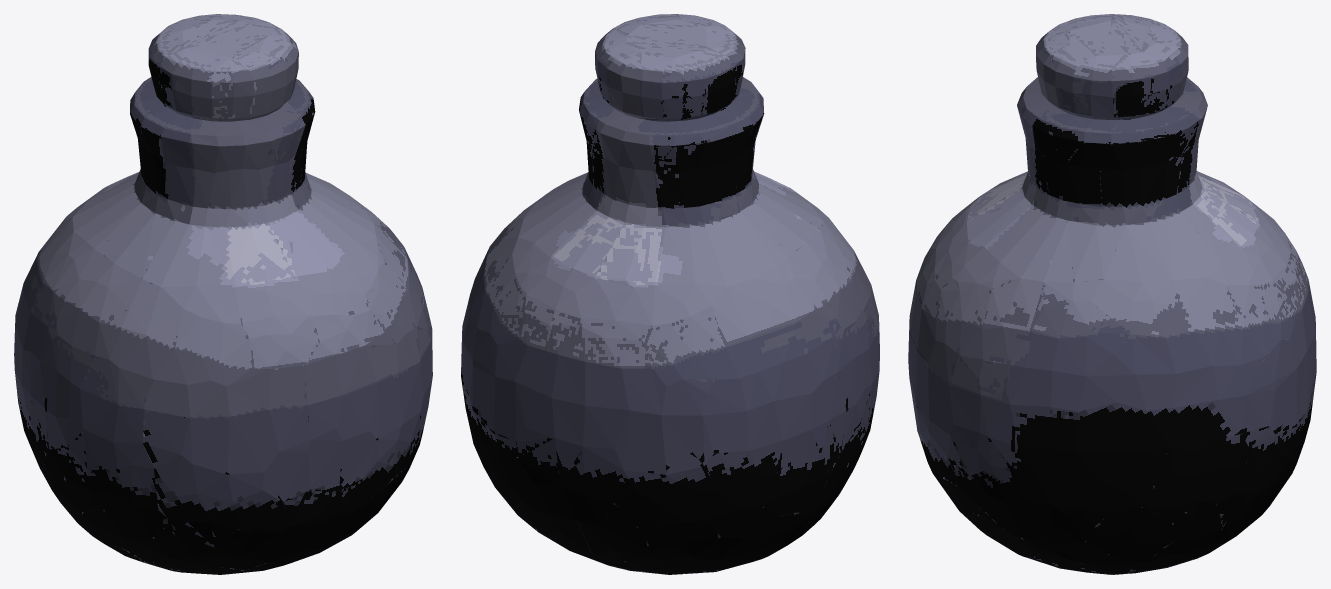
3 renders of one model, left to right at view 1: azimuth 30°, elevation 25°; view 2: azimuth 150°, elevation 25°; view 3: azimuth 270°, elevation 25°, orthographic.
Parts seen in each view (by area): view 1: OBJ12d; view 2: OBJ12d; view 3: OBJ12d.
Boxes of the visible parts, <box> form: OBJ12d: <box>14,14,432,574</box>; OBJ12d: <box>461,14,879,574</box>; OBJ12d: <box>908,14,1316,574</box>.
Bounding box in the file's own units: 0.1613 × 0.2229 × 0.1615.
Materials: 1 (1 with a texture image).
